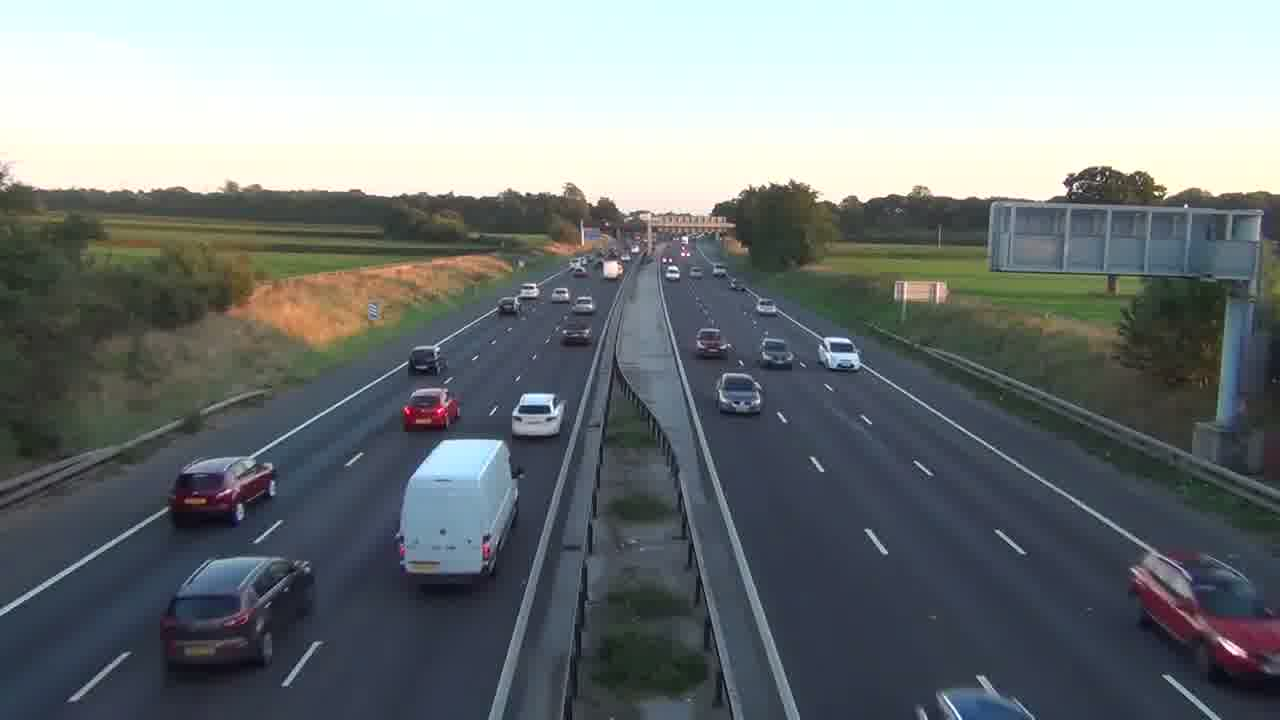car: (1126, 546, 1280, 686), (159, 555, 315, 671), (167, 455, 277, 527), (510, 391, 565, 438), (401, 387, 459, 431), (714, 371, 764, 415), (694, 327, 732, 358), (759, 336, 793, 370), (410, 345, 442, 374)
truck: (395, 436, 521, 588)
